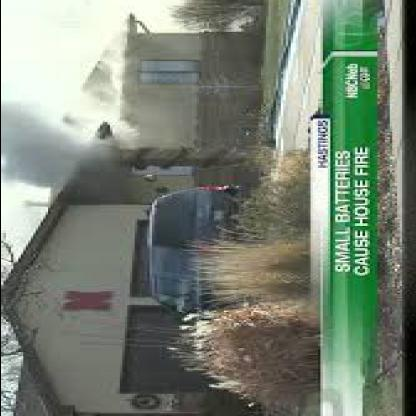Smoke: (3, 110, 56, 184)
